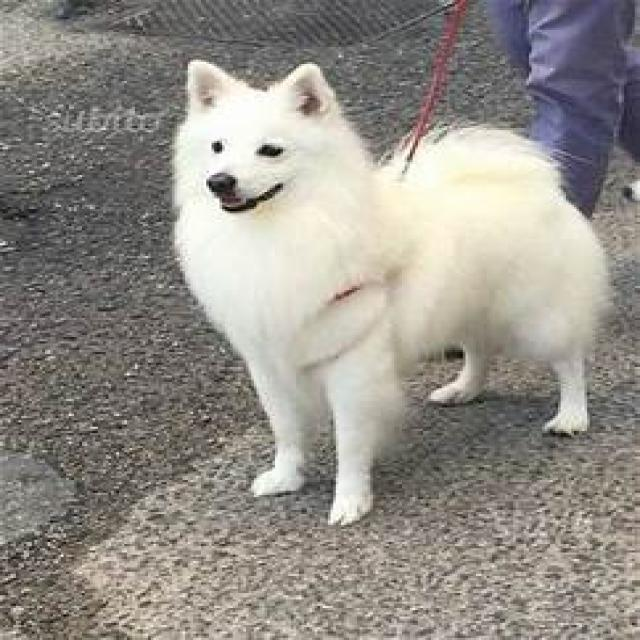KOPEK: (158, 60, 614, 532)
